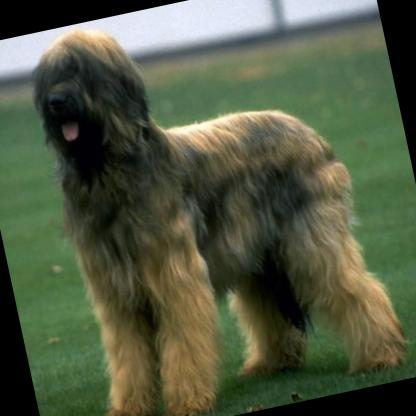briard: (20, 0, 412, 416)
